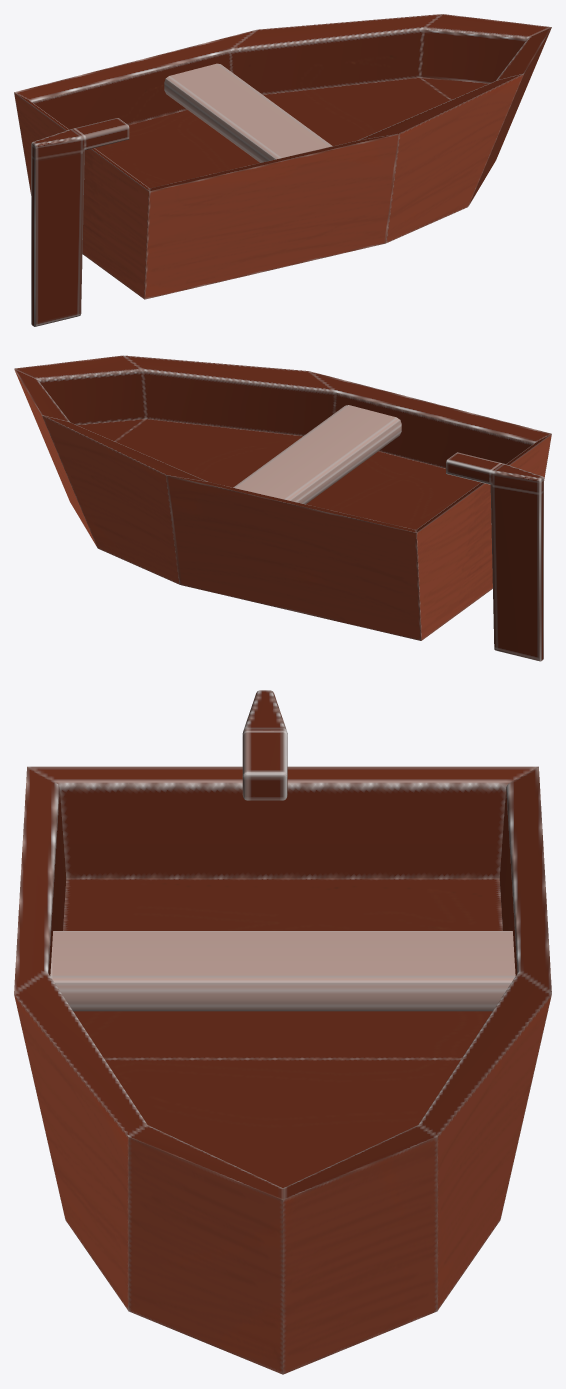
File: Båti.fbx
3 views of the same model, one above another, from view 1: azimuth 30°, elevation 25°; view 2: azimuth 150°, elevation 25°; view 3: azimuth 270°, elevation 25° (orthographic). The views are drawn at different scales.
Parts seen in each view (by area): view 1: pCube65, pCube67, pCube66; view 2: pCube65, pCube67, pCube66; view 3: pCube65, pCube66, pCube67.
Boxes of the visible parts, bbox=[...] form: pCube65: bbox=[14, 14, 551, 299]; pCube67: bbox=[31, 118, 129, 326]; pCube66: bbox=[164, 63, 332, 162]; pCube65: bbox=[14, 355, 551, 640]; pCube67: bbox=[446, 452, 543, 661]; pCube66: bbox=[233, 405, 401, 504]; pCube65: bbox=[14, 766, 551, 1374]; pCube66: bbox=[50, 931, 515, 1011]; pCube67: bbox=[242, 690, 287, 800].
Bounding box in the file's own units: 3.73 × 1.24 × 1.76.
